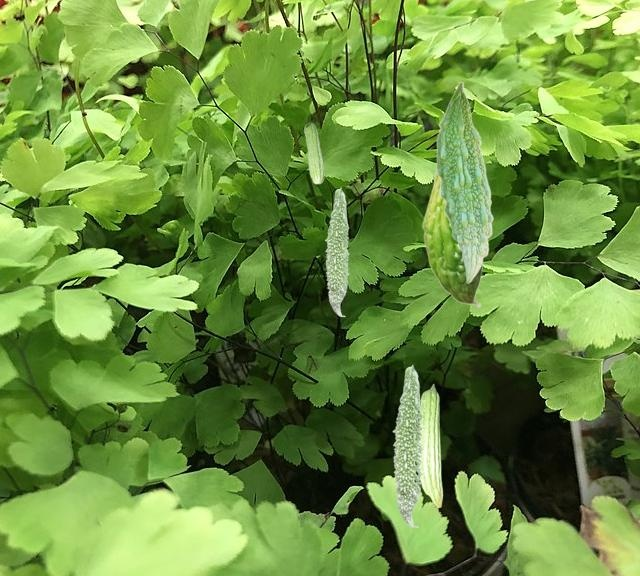ampalaya: (435, 81, 494, 284), (421, 170, 483, 308), (392, 364, 424, 528), (324, 186, 350, 317), (421, 383, 443, 508), (303, 122, 324, 184)
